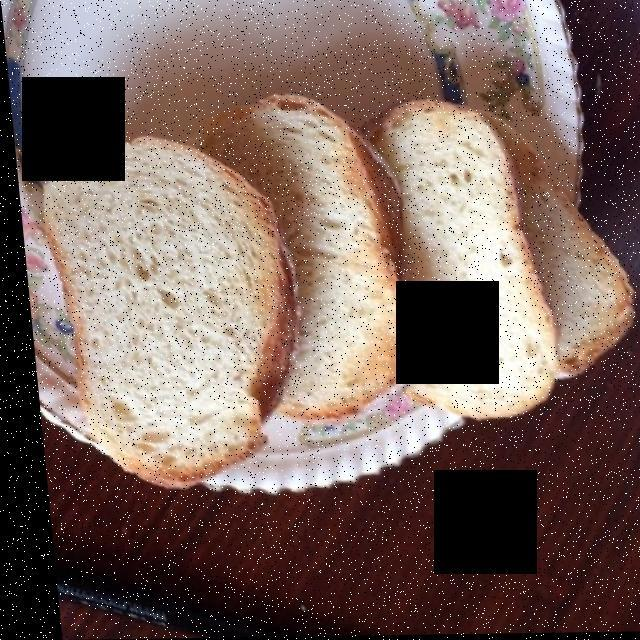bread: (47, 98, 621, 478)
